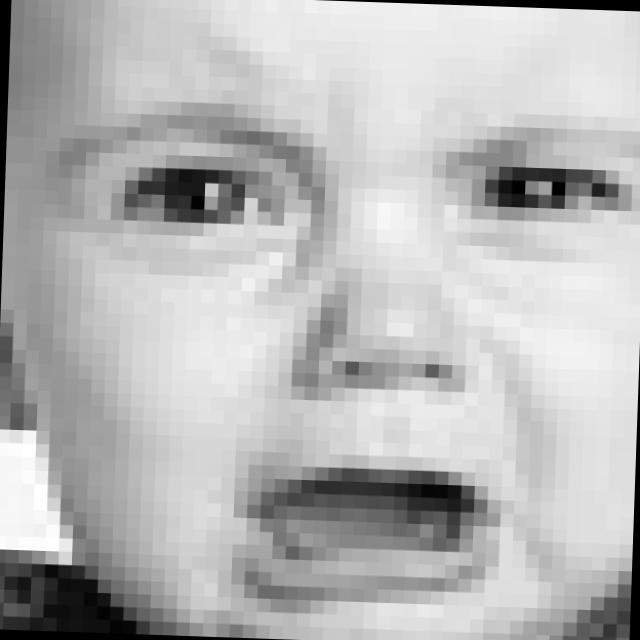sad: (23, 96, 640, 625)
